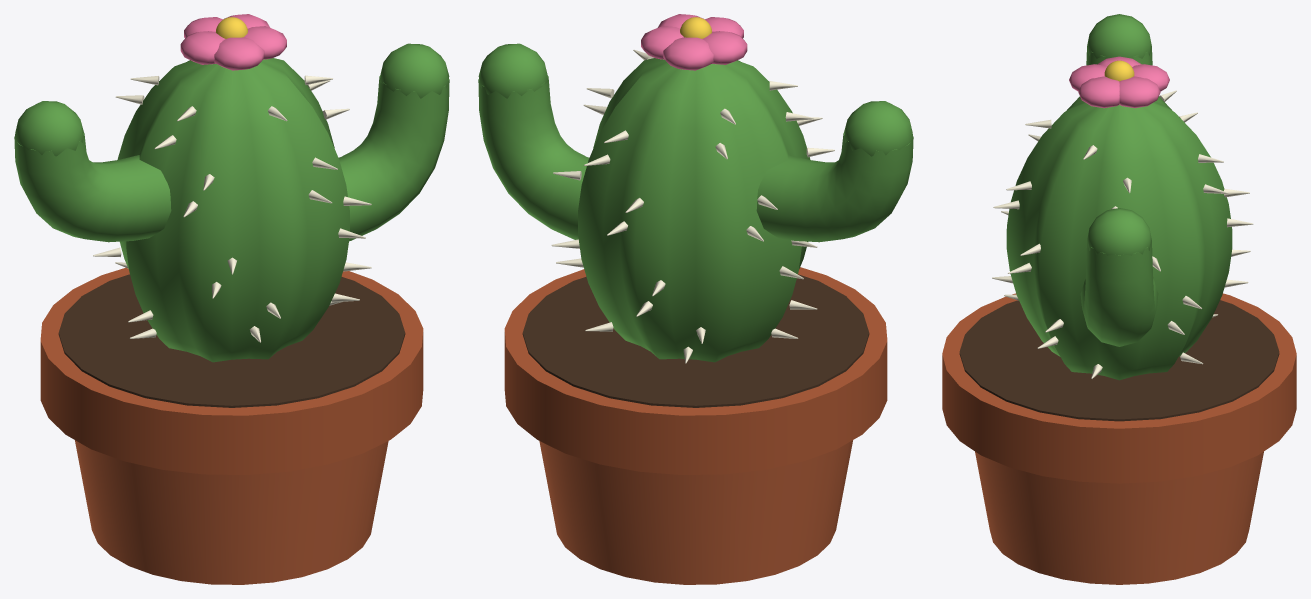
File: piece_cactus.fbx
3 views of the same model, side by side, from view 1: azimuth 30°, elevation 25°; view 2: azimuth 150°, elevation 25°; view 3: azimuth 270°, elevation 25° (orthographic). The views are drawn at different scales.
Visible parts, largest first — view 1: piece_cactus; view 2: piece_cactus; view 3: piece_cactus.
Boxes of the visible parts, box(x1,y1,x2,y2) form: piece_cactus: box(14, 14, 449, 584); piece_cactus: box(478, 14, 913, 584); piece_cactus: box(942, 14, 1296, 584).
Size of the model in its own units: 0.21 by 0.239 by 0.164.
